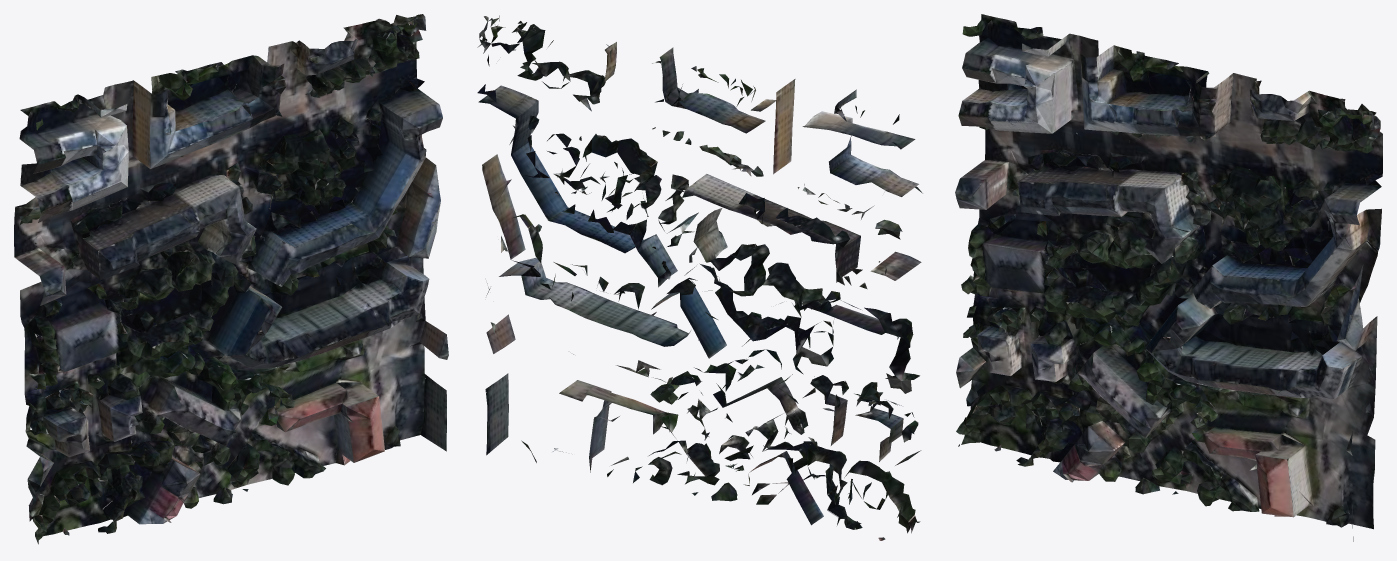
File: Tile_+037_+028_L16_000.glb
The picture shows the model from 3 angles, left to right: view 1: azimuth 30°, elevation 25°; view 2: azimuth 150°, elevation 25°; view 3: azimuth 330°, elevation 25°; orthographic projection. The views are drawn at different scales.
Size of the model in its own units: 250 by 250 by 40.26.
1 material, 1 textured.
